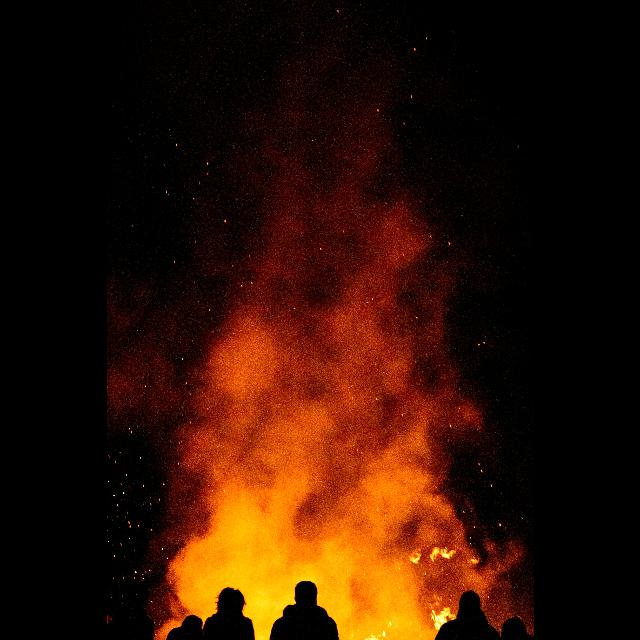fire: (106, 110, 515, 640)
